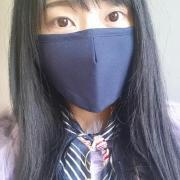OK: (38, 2, 141, 105)
